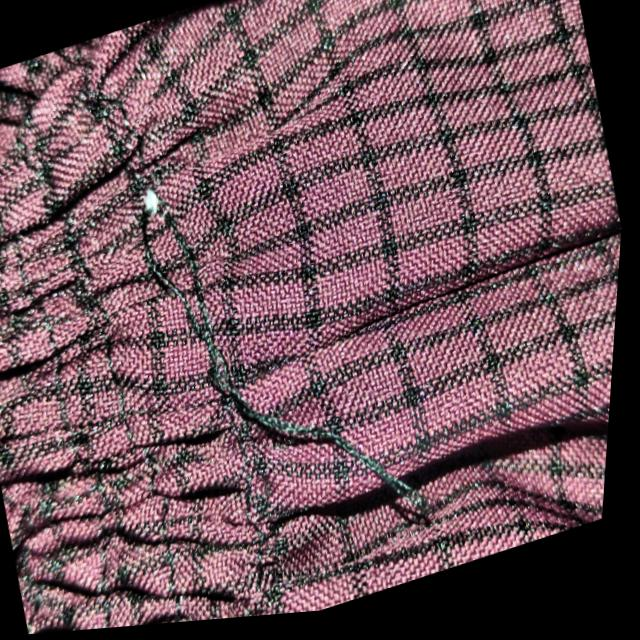Stitch: (46, 53, 485, 635)
